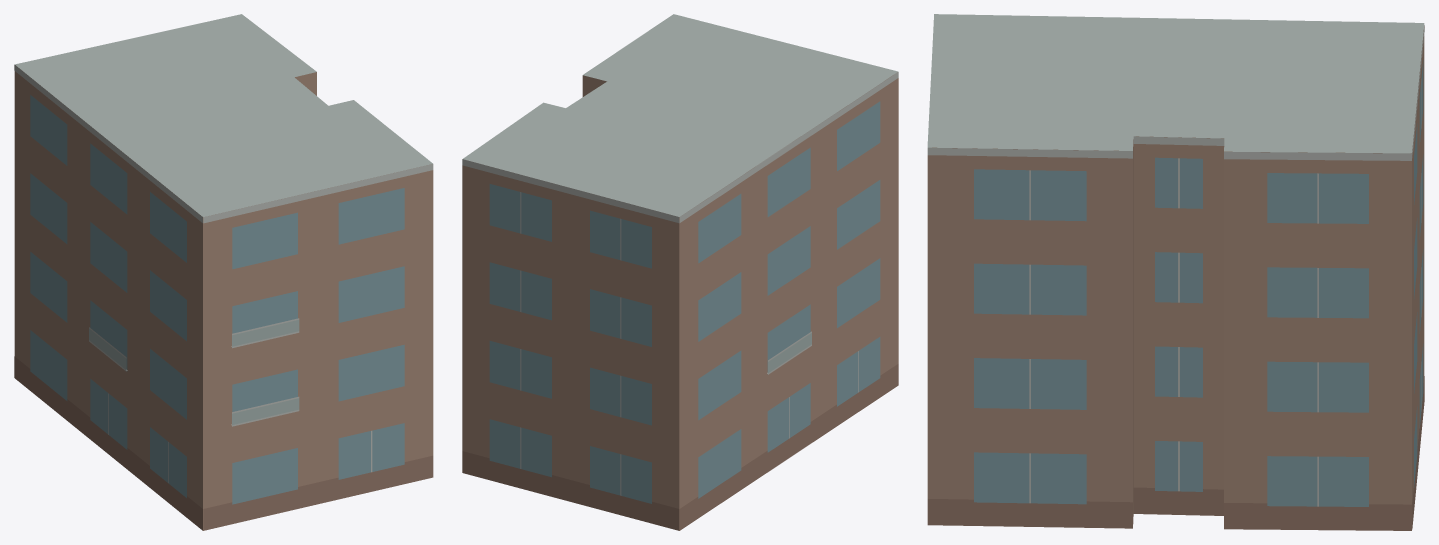
The model's file is survey-upis-32669412.glb.
3 views of the same model, side by side, from view 1: azimuth 30°, elevation 25°; view 2: azimuth 150°, elevation 25°; view 3: azimuth 270°, elevation 25° (orthographic). The views are drawn at different scales.
Parts seen in each view (by area): view 1: survey-upis-32669412.tmp; view 2: survey-upis-32669412.tmp; view 3: survey-upis-32669412.tmp.
Part boxes in pixels (x1,y1,x2,y2): survey-upis-32669412.tmp: [14, 14, 433, 530]; survey-upis-32669412.tmp: [462, 14, 898, 530]; survey-upis-32669412.tmp: [927, 14, 1424, 530].
Size of the model in its own units: 9.67 by 12.2 by 14.57.
